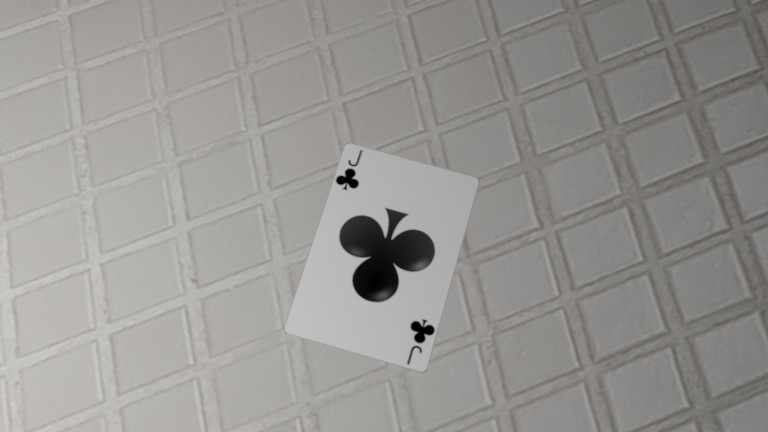jack_of_clubs: (160, 126, 176, 148), (133, 58, 148, 78)
